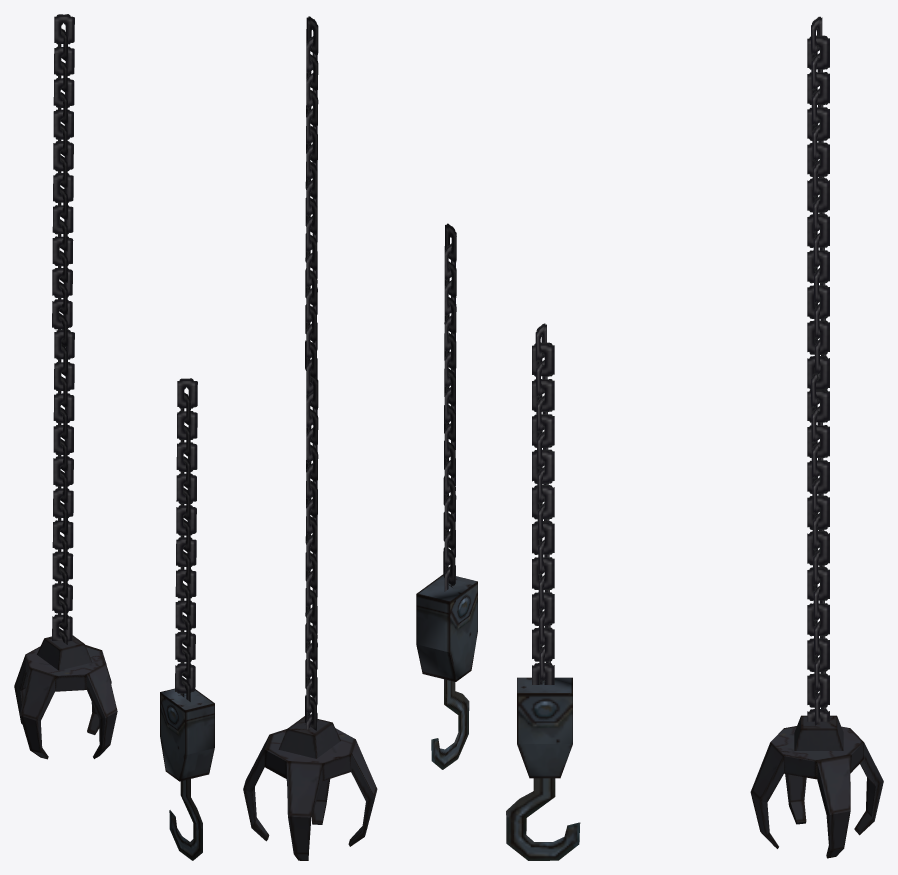
Rendered from 2_DG_DiaoGouZhuaZi_01.FBX.
3 renders of one model, left to right at view 1: azimuth 30°, elevation 25°; view 2: azimuth 150°, elevation 25°; view 3: azimuth 270°, elevation 25°, orthographic. The views are drawn at different scales.
Visible parts, largest first — view 1: 2_DG_DiaoZhua_01, 2_DG_DiaoGou_01, 2_DG_DiaoZhua_01_02; view 2: 2_DG_DiaoZhua_01, 2_DG_DiaoGou_01, 2_DG_DiaoZhua_01_02; view 3: 2_DG_DiaoZhua_01, 2_DG_DiaoGou_01, 2_DG_DiaoZhua_01_02.
Part boxes in pixels (box(x1,y1,x2,y2)): 2_DG_DiaoZhua_01: box(14, 329, 117, 759); 2_DG_DiaoGou_01: box(160, 378, 214, 860); 2_DG_DiaoZhua_01_02: box(52, 14, 74, 346); 2_DG_DiaoZhua_01: box(243, 376, 377, 860); 2_DG_DiaoGou_01: box(416, 223, 477, 769); 2_DG_DiaoZhua_01_02: box(305, 16, 318, 395); 2_DG_DiaoZhua_01: box(750, 373, 883, 858); 2_DG_DiaoGou_01: box(506, 323, 580, 860); 2_DG_DiaoZhua_01_02: box(807, 16, 829, 391).
Size of the model in its own units: 216 by 1506 by 612.
